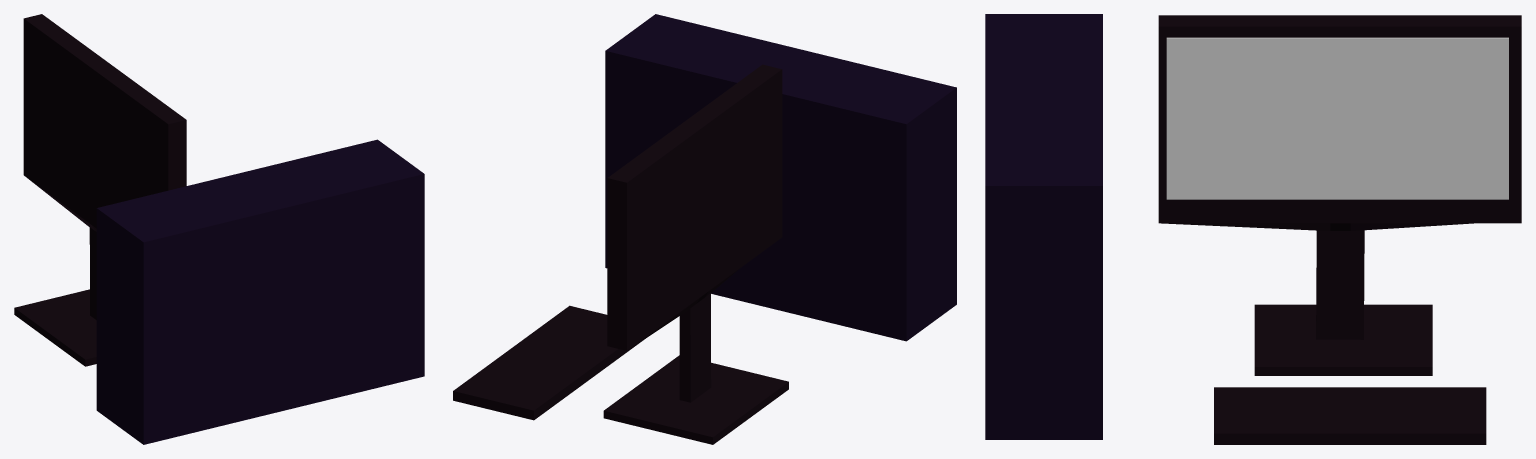
File: komputer.glb
3 views of the same model, side by side, from view 1: azimuth 30°, elevation 25°; view 2: azimuth 150°, elevation 25°; view 3: azimuth 270°, elevation 25° (orthographic). The views are drawn at different scales.
Parts seen in each view (by area): view 1: Cube.002, Cube; view 2: Cube.002, Cube; view 3: Cube.001, Cube, Cube.002.
Boxes of the visible parts, bbox=[...] form: Cube.002: bbox=[96, 139, 424, 444]; Cube: bbox=[14, 14, 186, 366]; Cube.002: bbox=[605, 14, 956, 341]; Cube: bbox=[453, 64, 788, 444]; Cube.001: bbox=[1166, 37, 1508, 199]; Cube: bbox=[1158, 15, 1521, 444]; Cube.002: bbox=[985, 14, 1102, 439].
Size of the model in its own units: 4.11 by 3.63 by 5.41.
